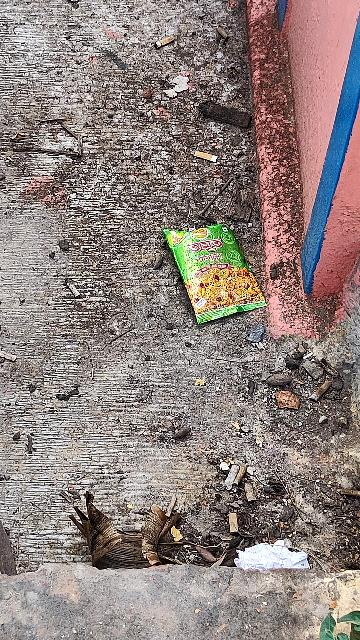packet: (170, 215, 260, 318)
